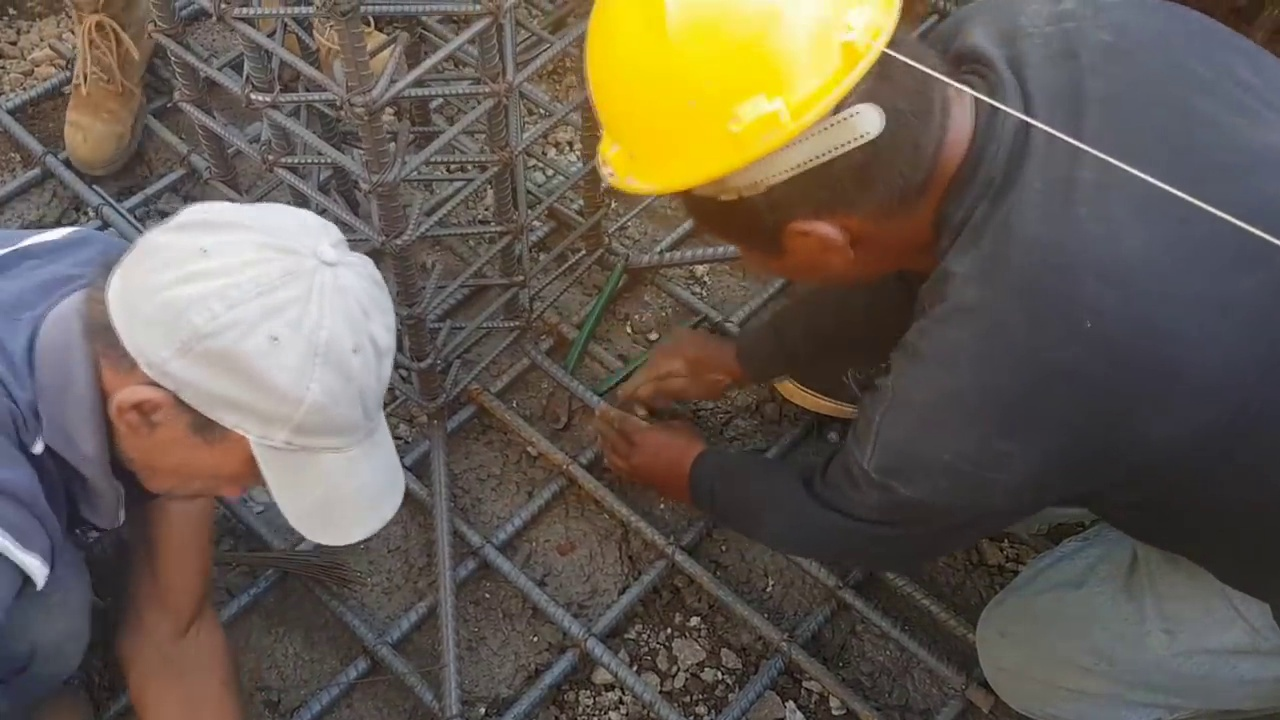helmet: (573, 0, 901, 201)
helmet-off: (82, 198, 413, 540)
helmet-on: (578, 0, 971, 281)
person: (573, 0, 1269, 719), (2, 202, 411, 720)
